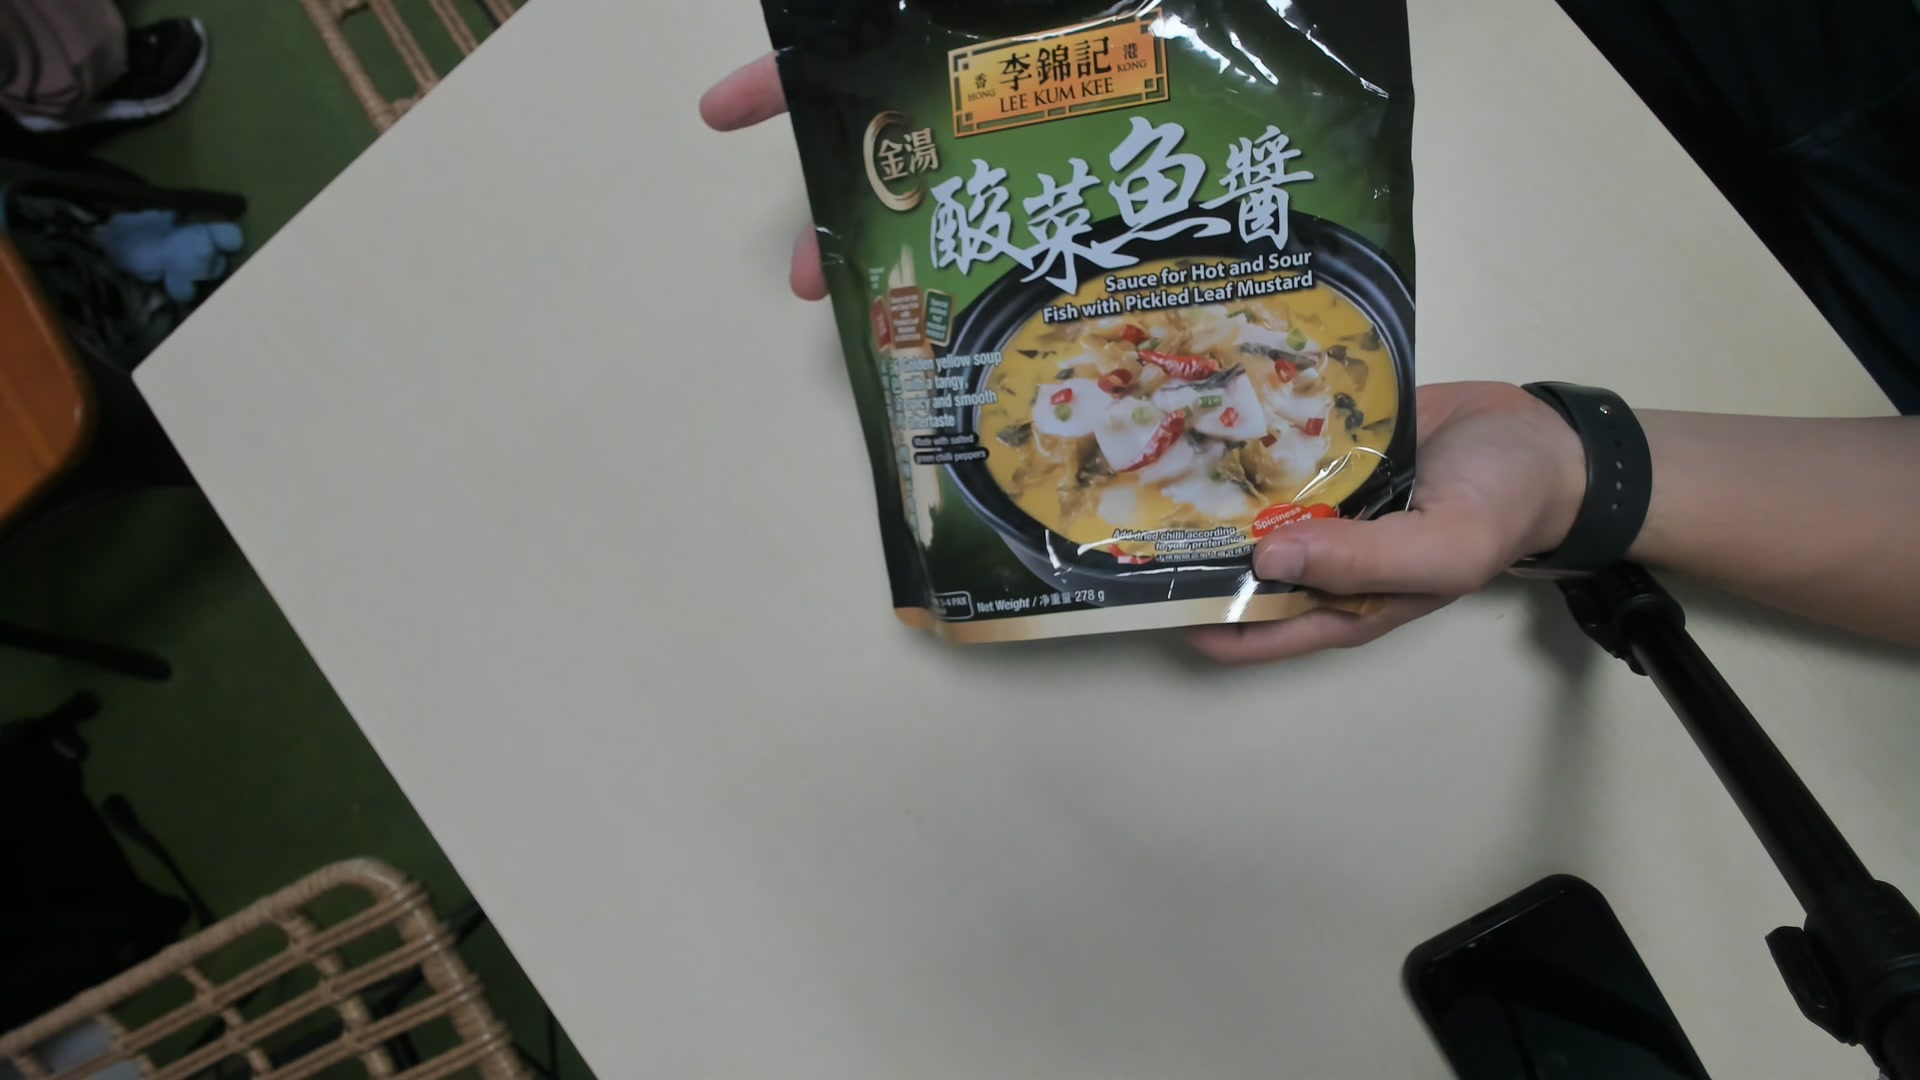OtherSauceDressing_200-299g_NonHalal_NonHealthy: (781, 3, 1412, 640)
